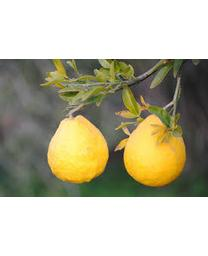lemon: (123, 115, 187, 185), (48, 115, 109, 184)
